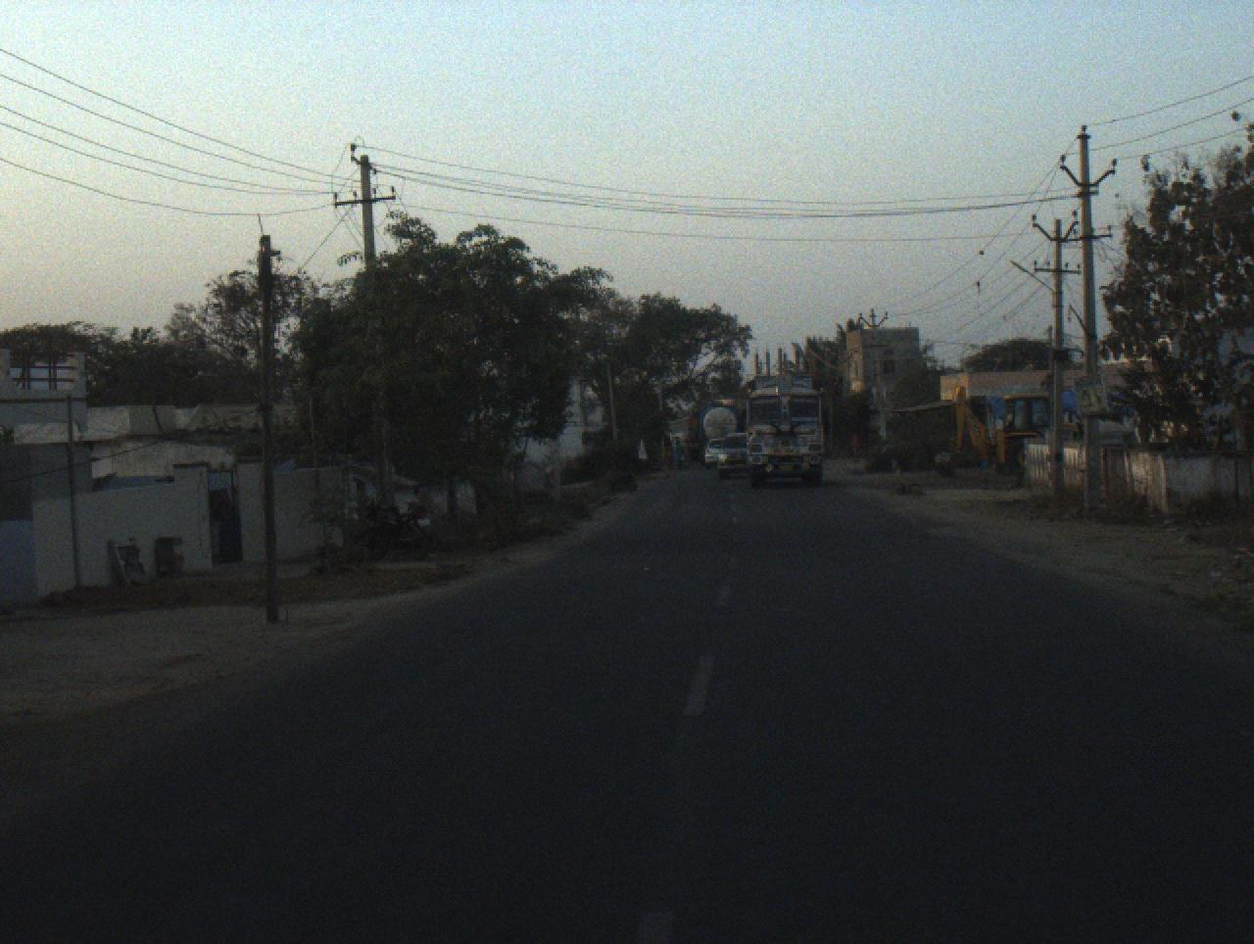streetlight: (1009, 260, 1065, 308)
